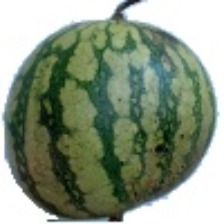watermelon: (13, 29, 185, 170)
